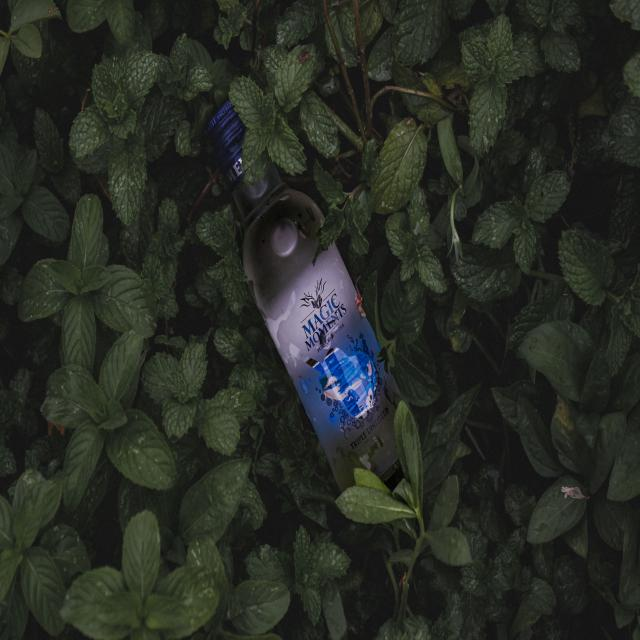Bottle: (206, 102, 400, 490)
